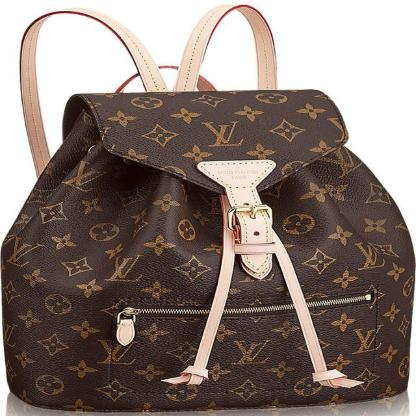bag: (0, 74, 416, 416)
